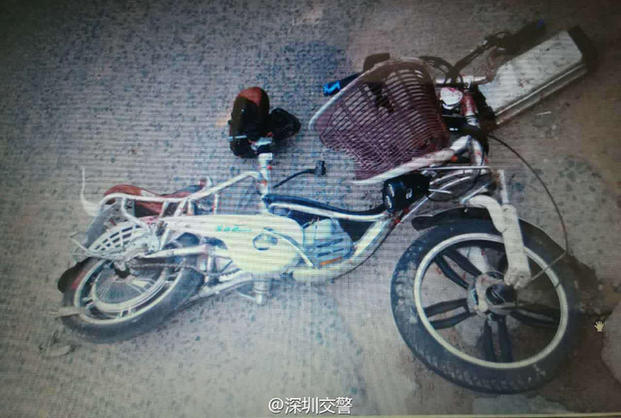电动车: (44, 54, 586, 397)
